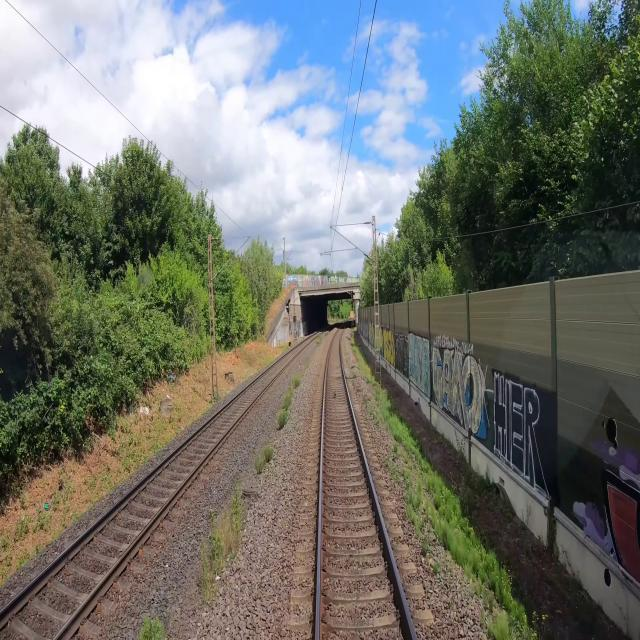Plant: (201, 497, 242, 608), (424, 497, 474, 580), (485, 609, 511, 639), (138, 617, 166, 639), (252, 446, 274, 471), (404, 506, 421, 535), (409, 479, 423, 509), (277, 409, 290, 431), (367, 406, 381, 422), (282, 389, 293, 407), (470, 580, 483, 595), (485, 592, 494, 612), (419, 539, 428, 556), (384, 455, 392, 468), (293, 376, 302, 387), (432, 561, 439, 575), (391, 465, 399, 477), (408, 472, 415, 485), (401, 464, 407, 479), (392, 440, 399, 452), (304, 357, 310, 369), (316, 335, 321, 345), (403, 453, 408, 463), (394, 433, 399, 441), (326, 331, 330, 335)
